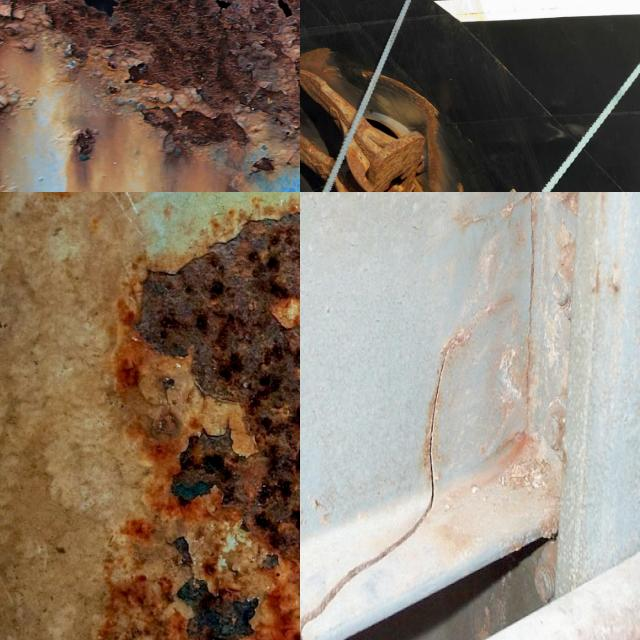Crack: (300, 333, 463, 640), (468, 192, 545, 226)
Pitting Corrosion: (100, 212, 300, 640)
Uniform Corrosion: (377, 75, 448, 192), (346, 117, 425, 192), (300, 69, 355, 134), (300, 49, 352, 94), (300, 134, 333, 177)
